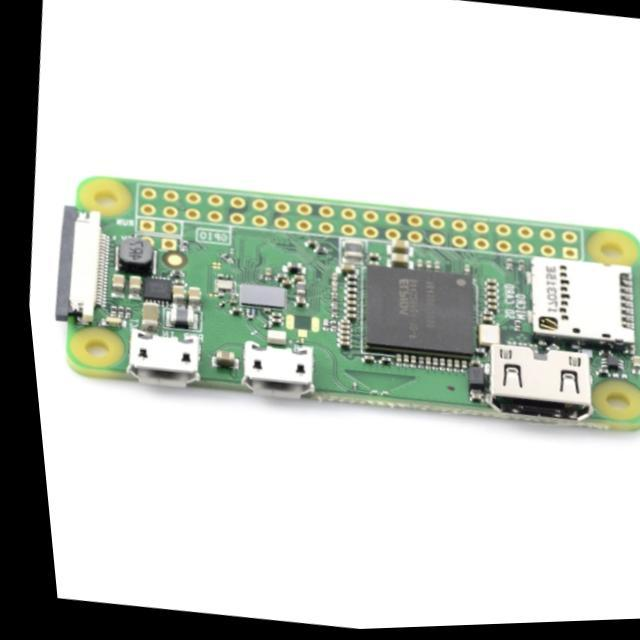Raspberry-Pi-Zero-W: (57, 177, 640, 430)
